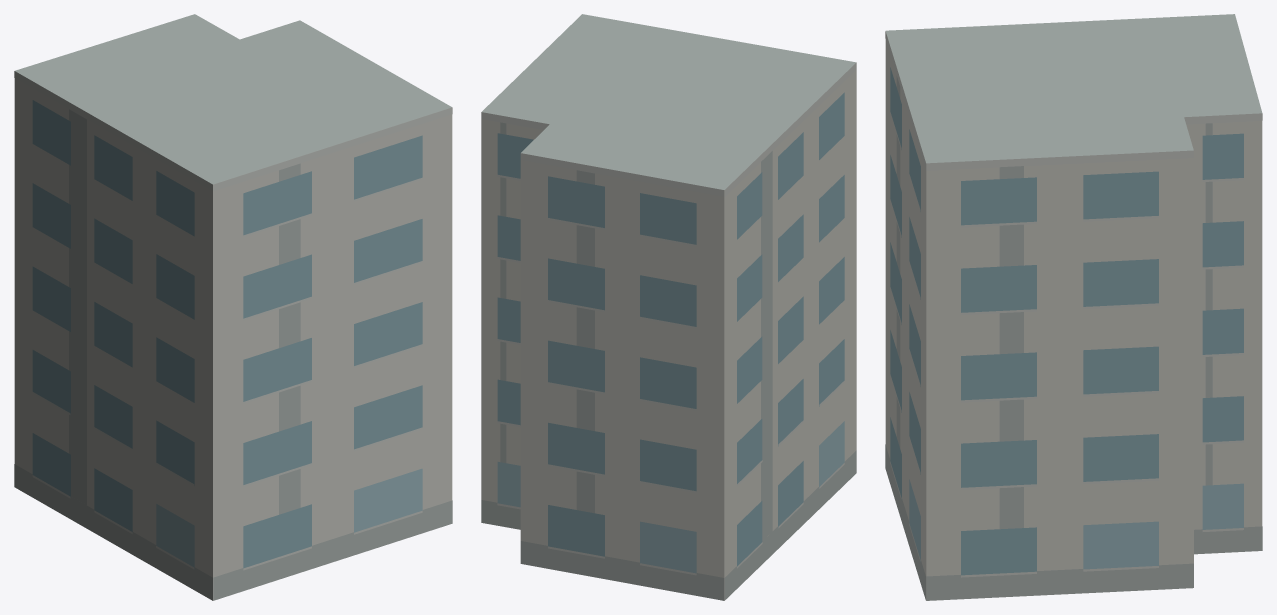
File: survey-upis-32718712.glb
3 renders of one model, left to right at view 1: azimuth 30°, elevation 25°; view 2: azimuth 150°, elevation 25°; view 3: azimuth 270°, elevation 25°, orthographic. The views are drawn at different scales.
Visible parts, largest first — view 1: survey-upis-32718712.tmp; view 2: survey-upis-32718712.tmp; view 3: survey-upis-32718712.tmp.
Part boxes in pixels (x1=…): survey-upis-32718712.tmp: x1=14, y1=14, x2=452, y2=600; survey-upis-32718712.tmp: x1=481, y1=14, x2=856, y2=600; survey-upis-32718712.tmp: x1=885, y1=14, x2=1262, y2=600.
Bounding box in the file's own units: 10.55 × 14.4 × 11.26.
